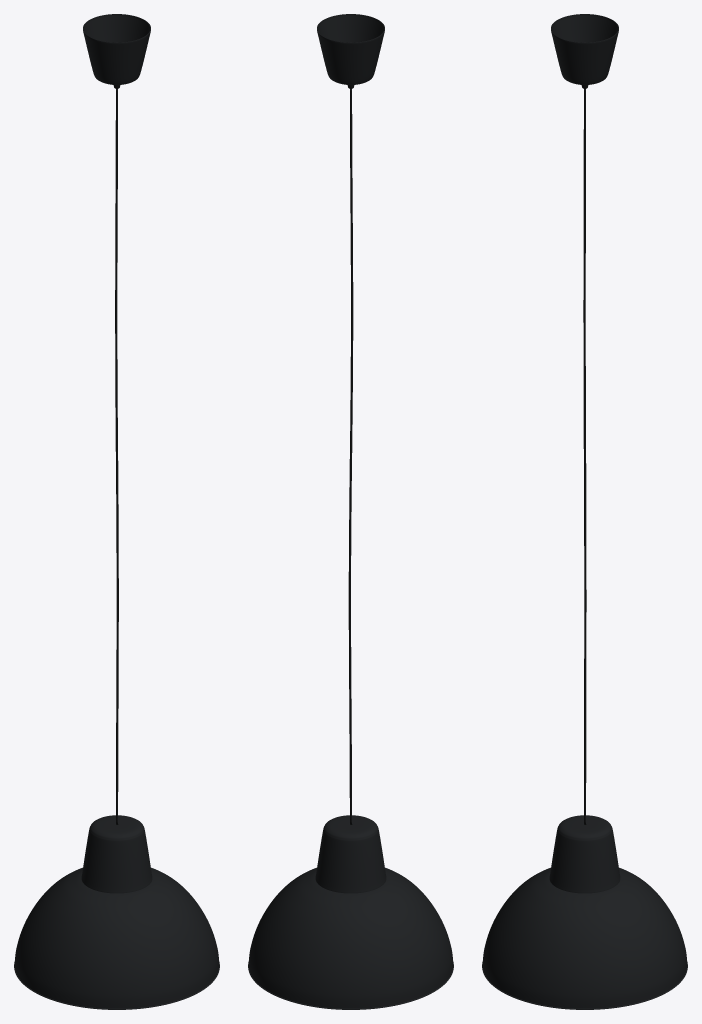
Rendered from pendant_lamp.glb.
3 views of the same model, side by side, from view 1: azimuth 30°, elevation 25°; view 2: azimuth 150°, elevation 25°; view 3: azimuth 270°, elevation 25° (orthographic).
Parts seen in each view (by area): view 1: Hollow_dome_black_outside_white_inside, Tapered_upper_lamp_housing, Ceiling_canopy_open_top, Suspension_cord_150cm; view 2: Hollow_dome_black_outside_white_inside, Tapered_upper_lamp_housing, Ceiling_canopy_open_top, Suspension_cord_150cm; view 3: Hollow_dome_black_outside_white_inside, Tapered_upper_lamp_housing, Ceiling_canopy_open_top, Suspension_cord_150cm.
Part boxes in pixels (box(x1,y1,x2,y2)): Hollow_dome_black_outside_white_inside: box(14, 867, 219, 1008); Tapered_upper_lamp_housing: box(81, 815, 152, 893); Ceiling_canopy_open_top: box(83, 14, 150, 84); Suspension_cord_150cm: box(115, 89, 118, 824); Hollow_dome_black_outside_white_inside: box(248, 867, 453, 1008); Tapered_upper_lamp_housing: box(315, 815, 386, 893); Ceiling_canopy_open_top: box(317, 14, 384, 84); Suspension_cord_150cm: box(348, 89, 353, 824); Hollow_dome_black_outside_white_inside: box(482, 867, 687, 1008); Tapered_upper_lamp_housing: box(549, 815, 620, 893); Ceiling_canopy_open_top: box(551, 14, 618, 84); Suspension_cord_150cm: box(583, 89, 586, 824).
Size of the model in its own units: 0.38 by 1.91 by 0.38.
Materials: 5 (3 with a texture image).
